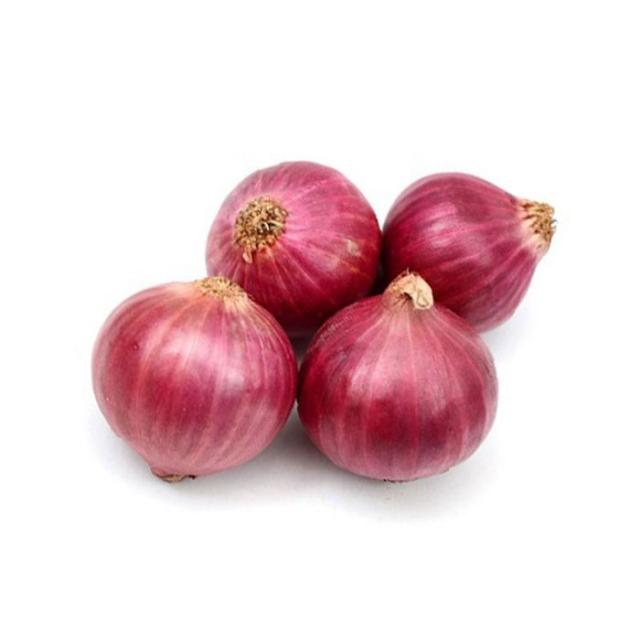Onion: (298, 273, 498, 482), (93, 278, 296, 481), (206, 161, 381, 338), (383, 173, 556, 331)
